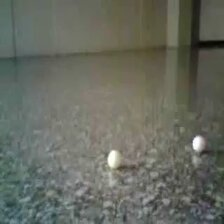w: (191, 135, 208, 153), (106, 150, 121, 168)
